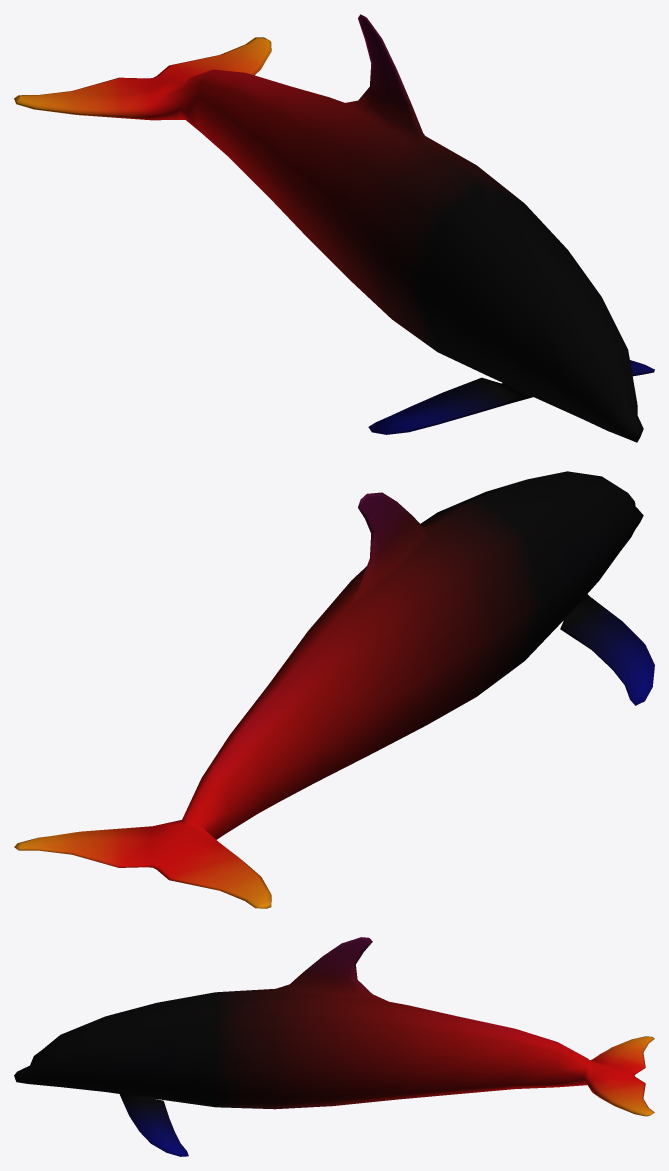
The picture shows the model from 3 angles, top to bottom: view 1: azimuth 30°, elevation 25°; view 2: azimuth 150°, elevation 25°; view 3: azimuth 270°, elevation 25°; orthographic projection. The views are drawn at different scales.
Parts seen in each view (by area): view 1: common bottlenose dolphin_final; view 2: common bottlenose dolphin_final; view 3: common bottlenose dolphin_final.
Boxes of the visible parts, x1,y1,x2,y2 form: common bottlenose dolphin_final: (14, 14, 654, 442); common bottlenose dolphin_final: (14, 471, 654, 908); common bottlenose dolphin_final: (14, 937, 654, 1156).
Size of the model in its own units: 0.7918 by 0.7693 by 2.51.
